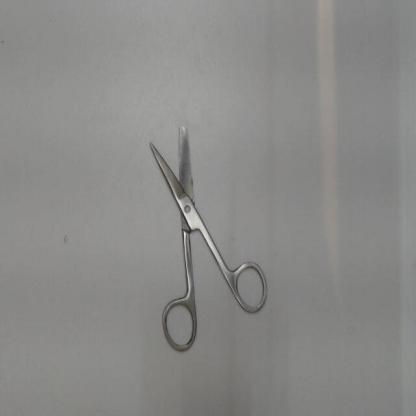Dressing Scissors: (142, 113, 274, 359)
